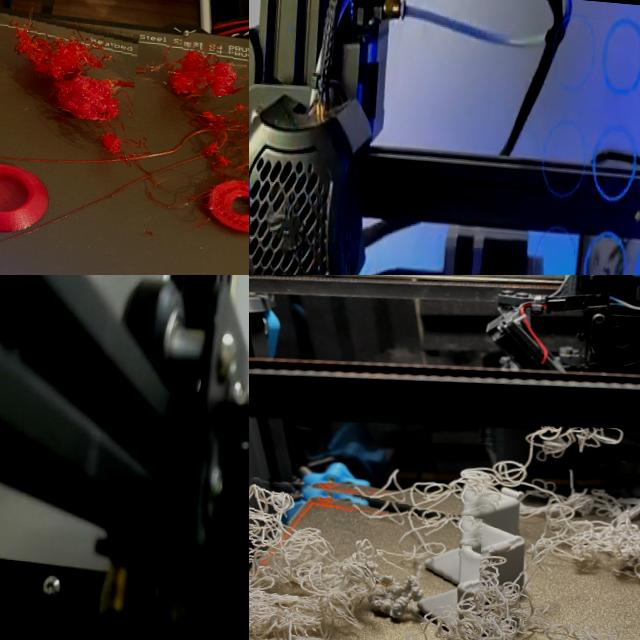spaghetti: (472, 413, 640, 640), (249, 484, 461, 640), (0, 8, 140, 123), (178, 100, 249, 214), (152, 38, 248, 102), (97, 131, 129, 159)
